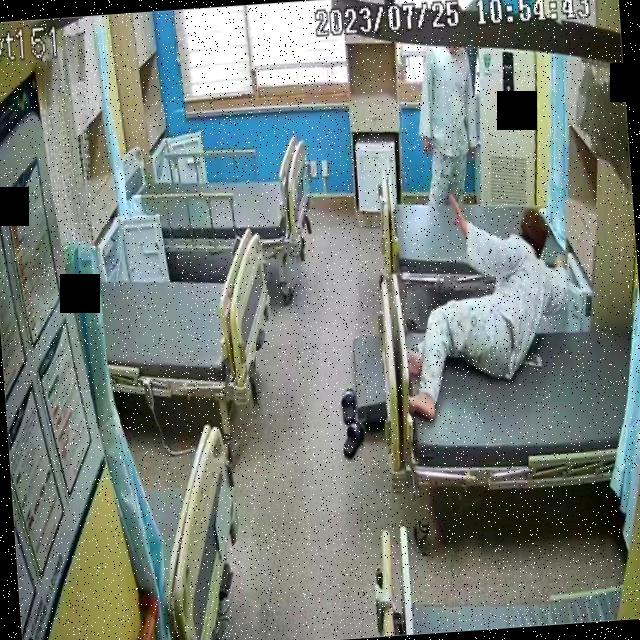bed: (397, 305, 640, 495), (96, 226, 280, 415), (123, 134, 316, 268), (379, 166, 568, 300)
danger: (396, 184, 578, 423)
patient: (397, 186, 578, 424)
